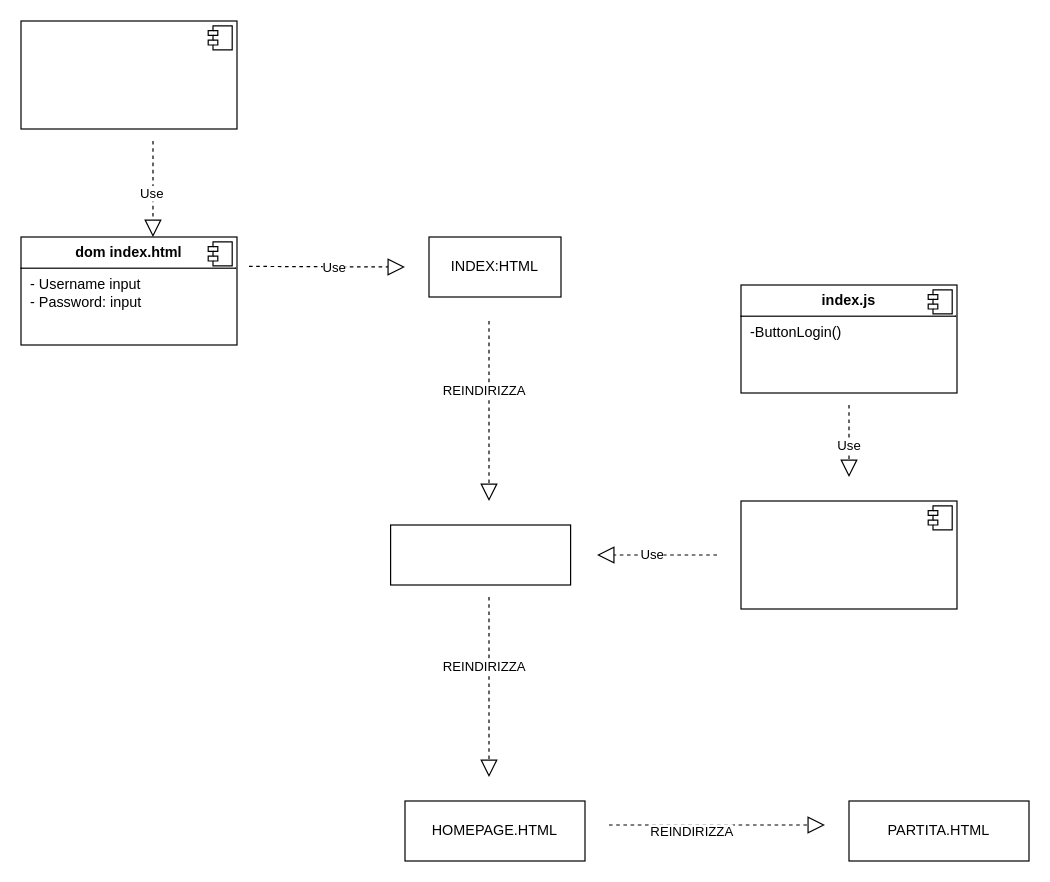
The diagram is 1050 pixels wide and 882 high, and some of its shapes have lost their labels. Each missing label, with the centre of its shape:
dom login.html - Username input - Password: input - buttonLogin: point (848, 554)
index.js - ButtonRegister(): point (128, 74)
LOGIN.HTML: point (480, 554)
